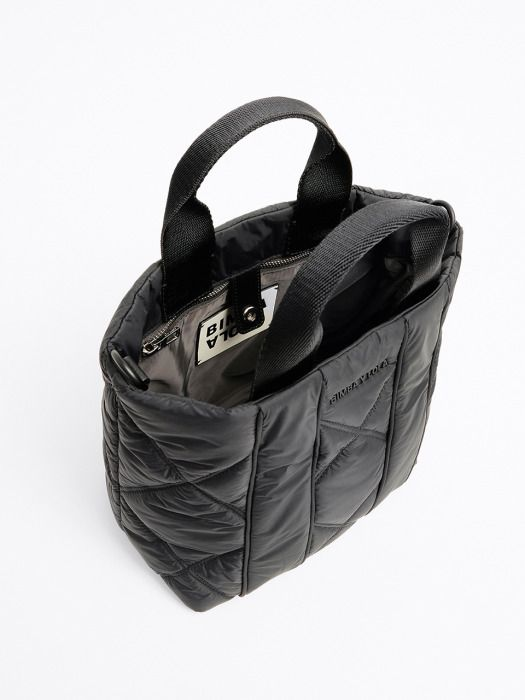nylon: (102, 184, 462, 611)
